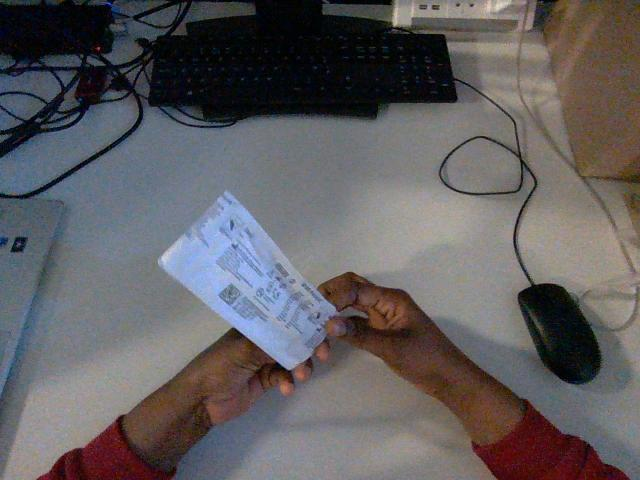syringe: (159, 192, 335, 368)
